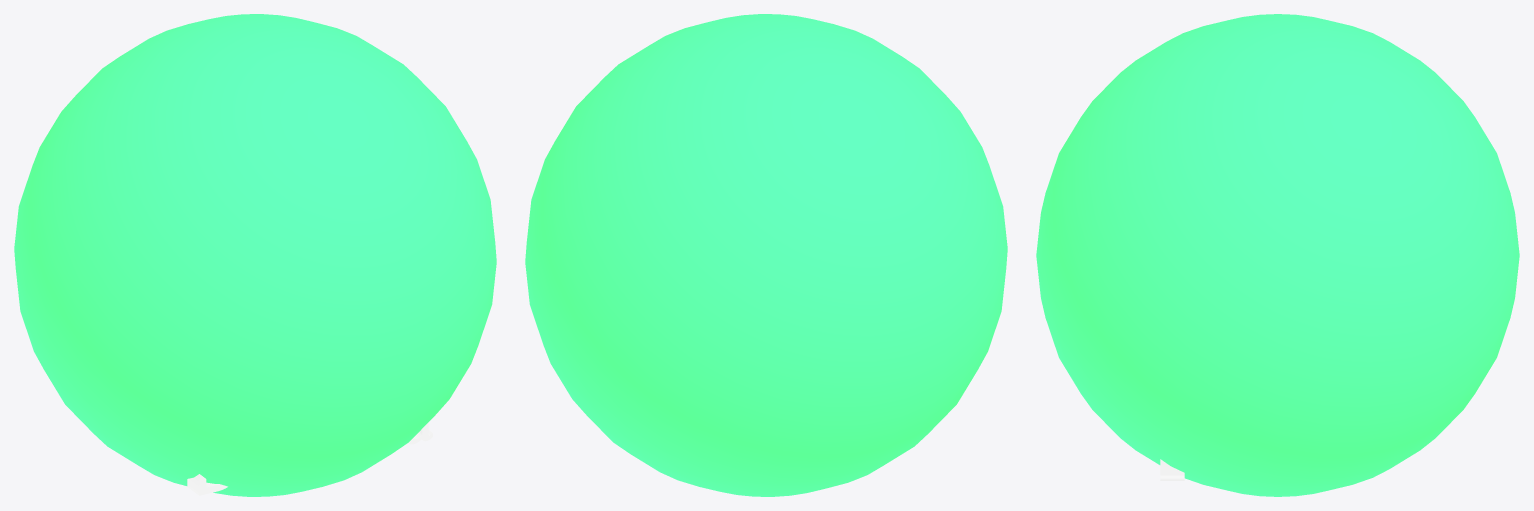
File: correia-dentada.glb
The picture shows the model from 3 angles, left to right: view 1: azimuth 30°, elevation 25°; view 2: azimuth 150°, elevation 25°; view 3: azimuth 270°, elevation 25°; orthographic projection.
Parts seen in each view (by area): view 1: Sphere.009, Text.010; view 2: Sphere.009; view 3: Sphere.009.
Boxes of the visible parts, x1,y1,x2,y2 form: Sphere.009: (14, 14, 496, 496); Text.010: (187, 422, 432, 495); Sphere.009: (525, 14, 1007, 496); Sphere.009: (1036, 14, 1519, 496).
Size of the model in its own units: 5.15 by 5.15 by 5.15.
